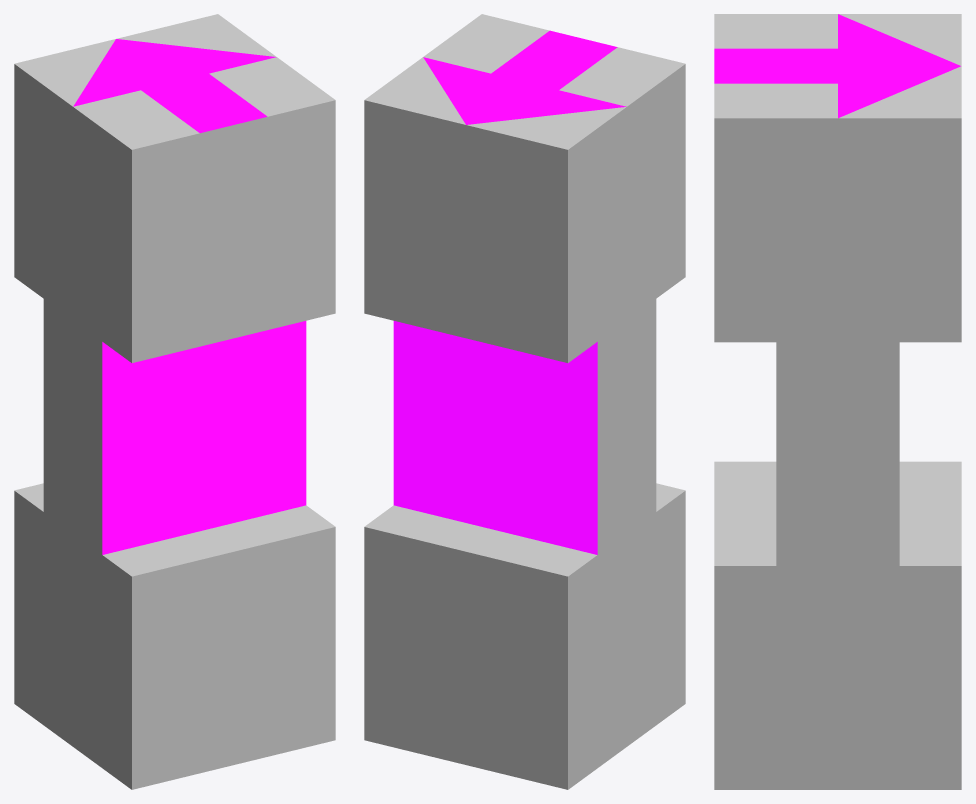
The model's file is inoutP.glb.
3 renders of one model, left to right at view 1: azimuth 30°, elevation 25°; view 2: azimuth 150°, elevation 25°; view 3: azimuth 270°, elevation 25°, orthographic. The views are drawn at different scales.
Visible parts, largest first — view 1: Cube; view 2: Cube; view 3: Cube.
Part boxes in pixels (box(x1,y1,x2,y2)): Cube: box(14, 14, 335, 789); Cube: box(364, 14, 685, 789); Cube: box(714, 14, 961, 789).
Bounding box in the file's own units: 1 × 3 × 1.
